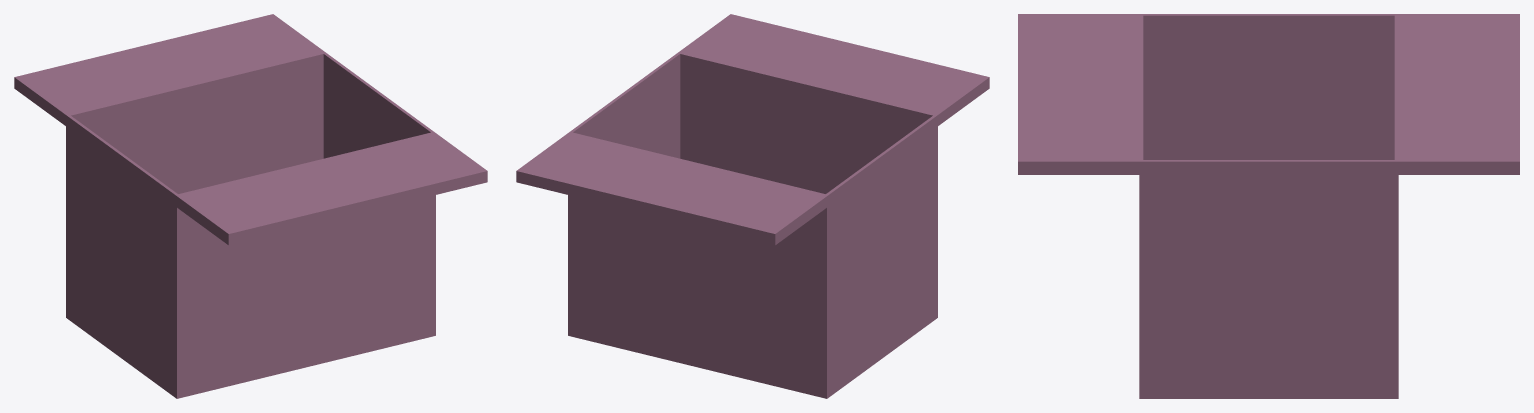
The model's file is Purple_Open_Box.fbx.
The picture shows the model from 3 angles, left to right: view 1: azimuth 30°, elevation 25°; view 2: azimuth 150°, elevation 25°; view 3: azimuth 270°, elevation 25°; orthographic projection. The views are drawn at different scales.
Visible parts, largest first — view 1: Purple_Open_Box; view 2: Purple_Open_Box; view 3: Purple_Open_Box.
Boxes of the visible parts, box(x1,y1,x2,y2) form: Purple_Open_Box: box(14, 14, 487, 398); Purple_Open_Box: box(516, 14, 989, 398); Purple_Open_Box: box(1018, 14, 1519, 398).
Size of the model in its own units: 44.45 by 33.26 by 63.76.
